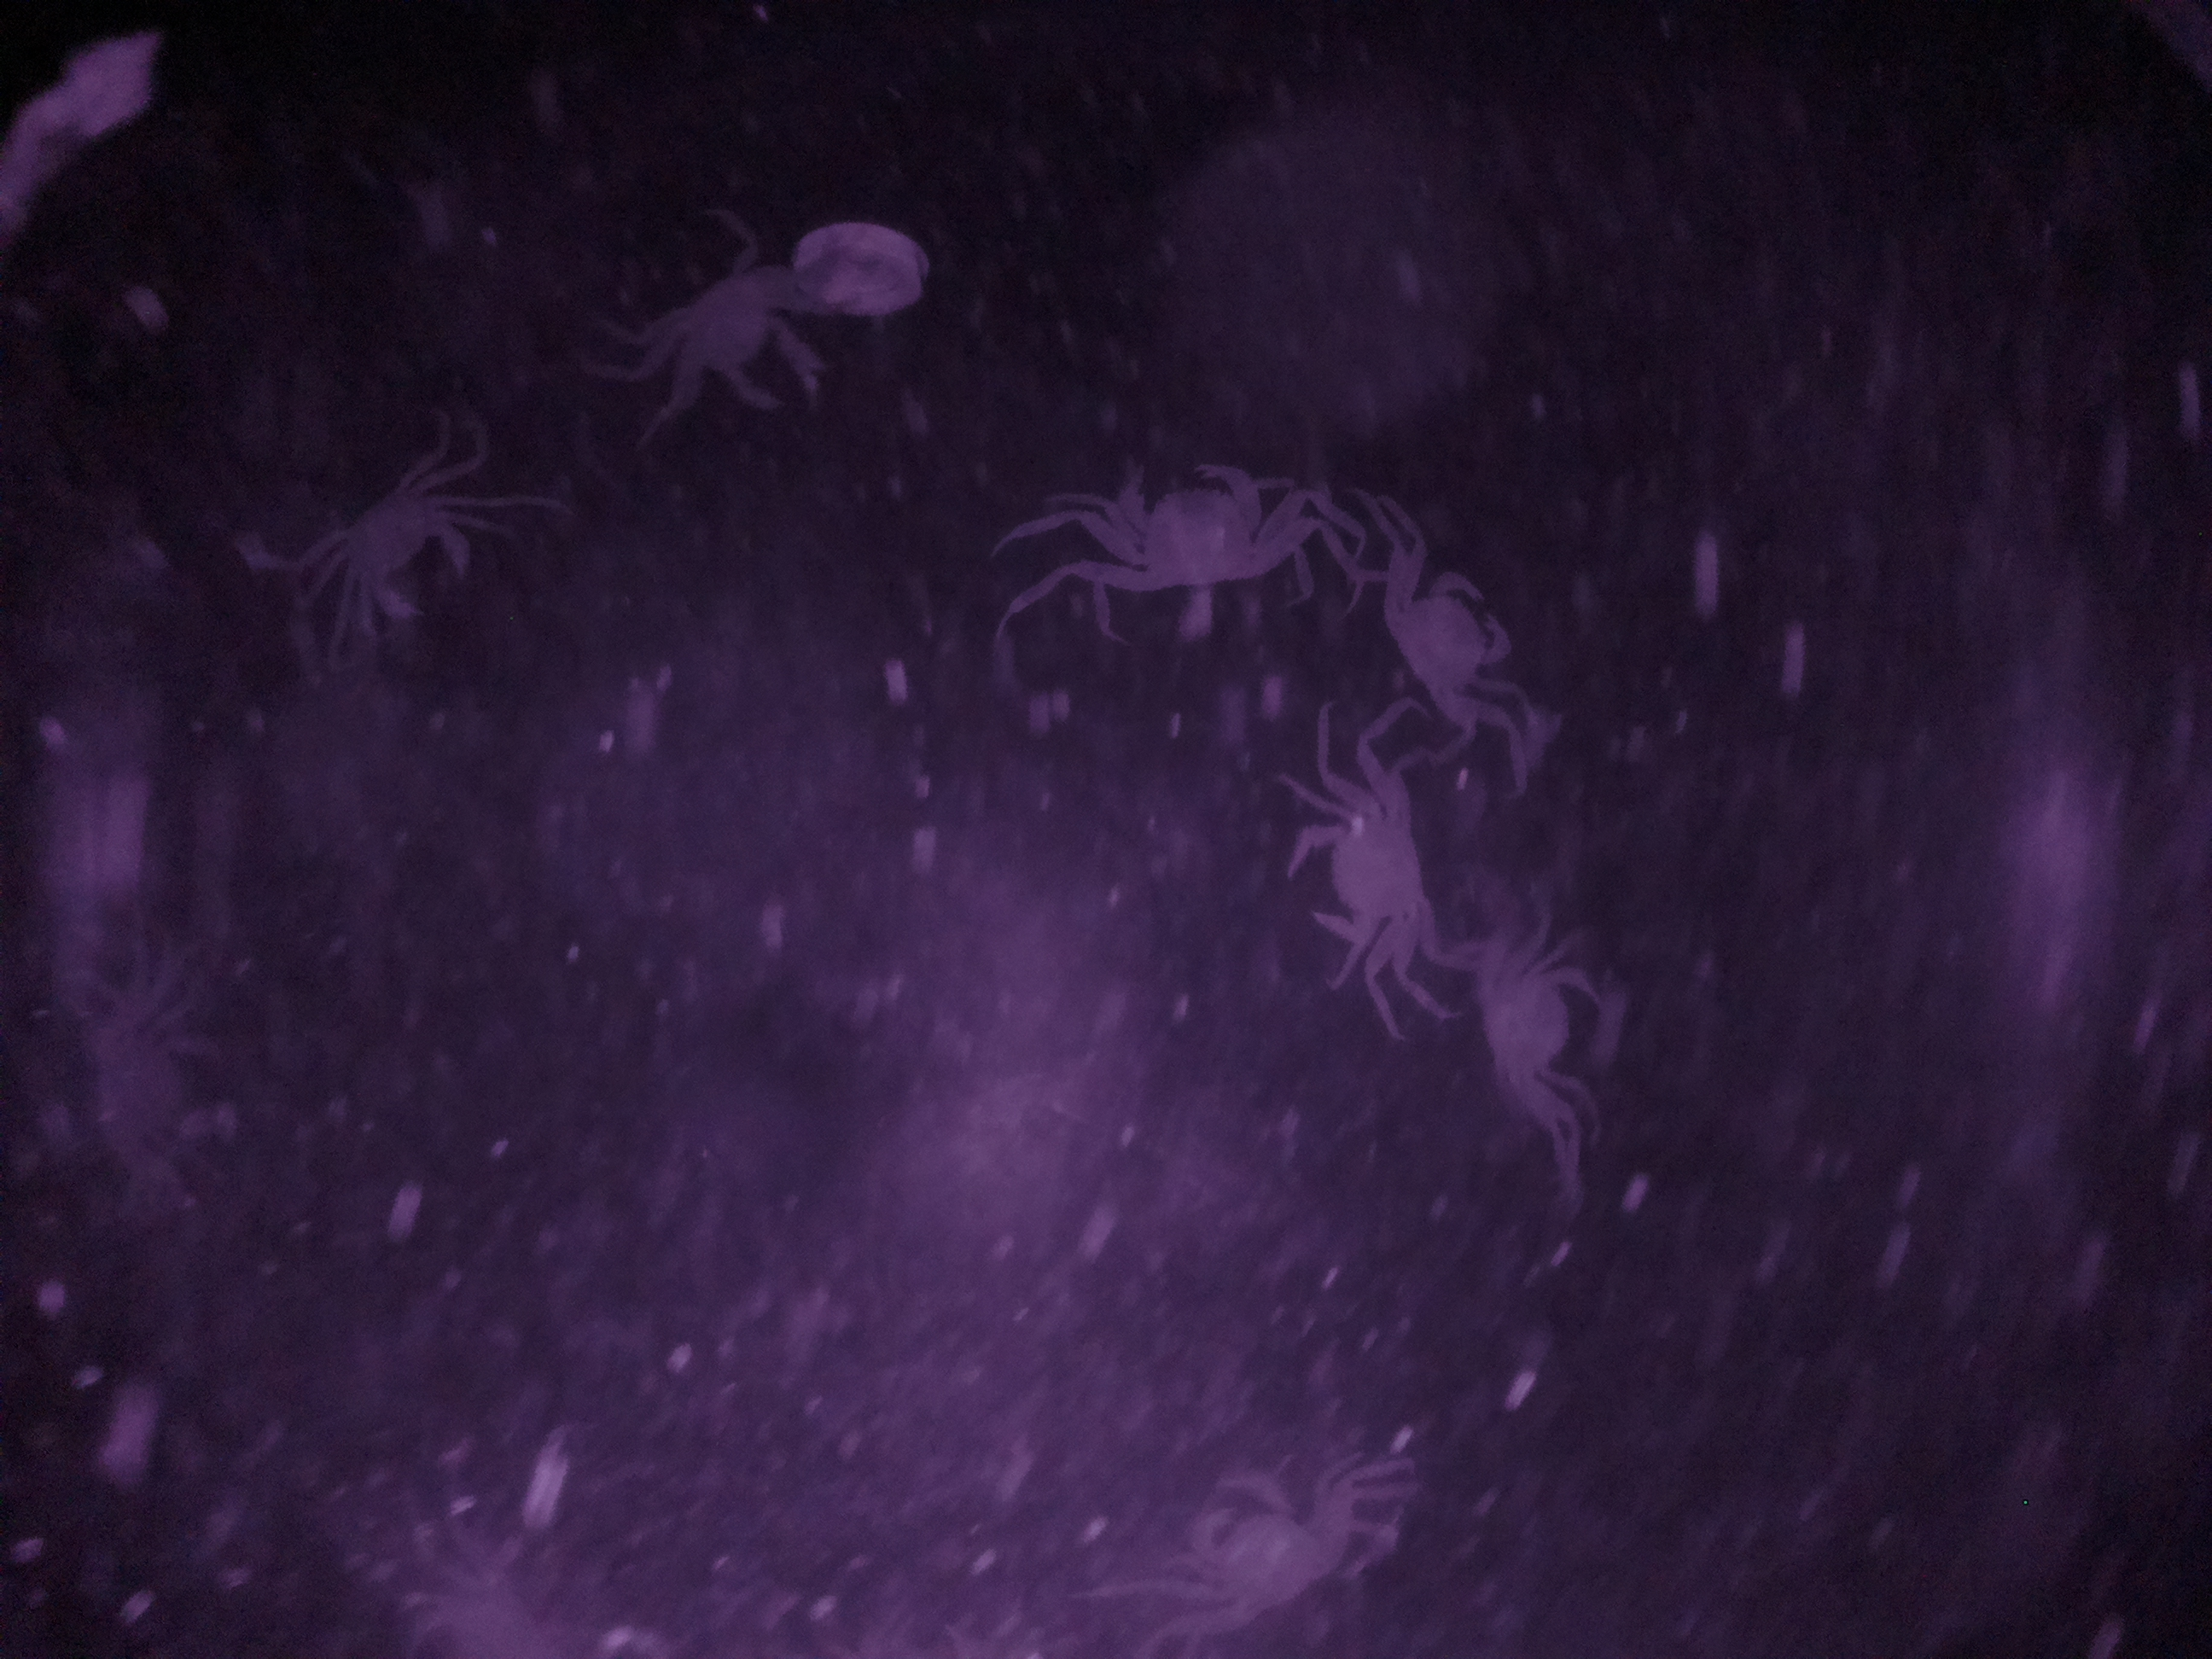Crab: (1059, 443, 1324, 606), (1259, 777, 1451, 985), (315, 448, 498, 645), (1369, 540, 1533, 741)
